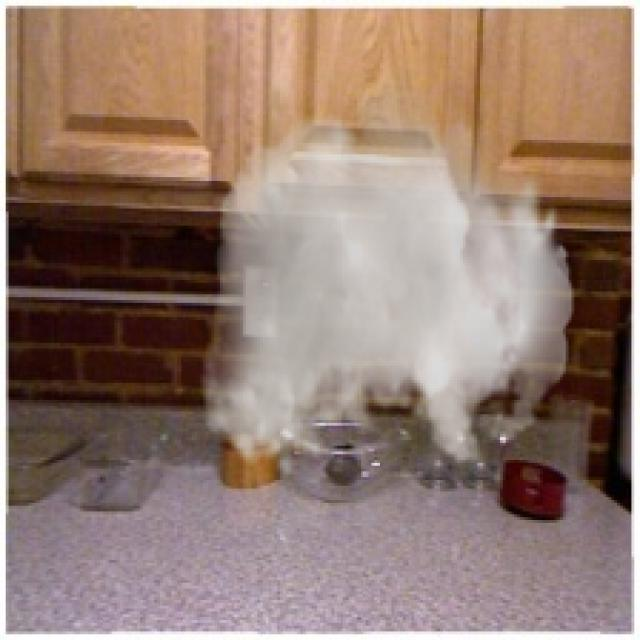smoke: (200, 60, 574, 477)
